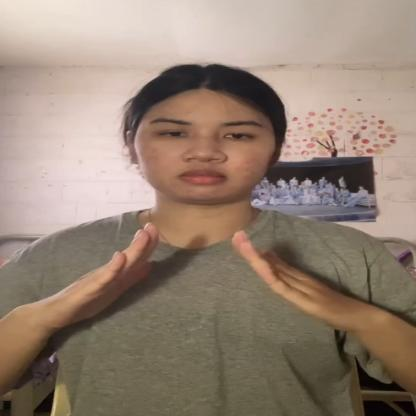Thank you: (44, 218, 359, 335)
